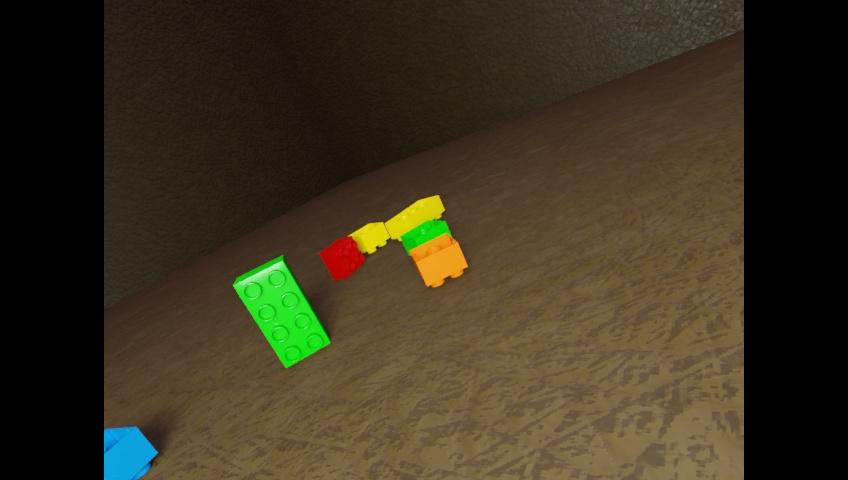2x2_blue: (105, 426, 156, 480)
2x2_green: (399, 219, 451, 255)
2x2_orange: (409, 232, 466, 285)
2x2_red: (319, 235, 363, 279)
2x2_yellow: (347, 221, 389, 253)
4x2_green: (233, 254, 329, 367)
4x2_yellow: (384, 195, 444, 240)
